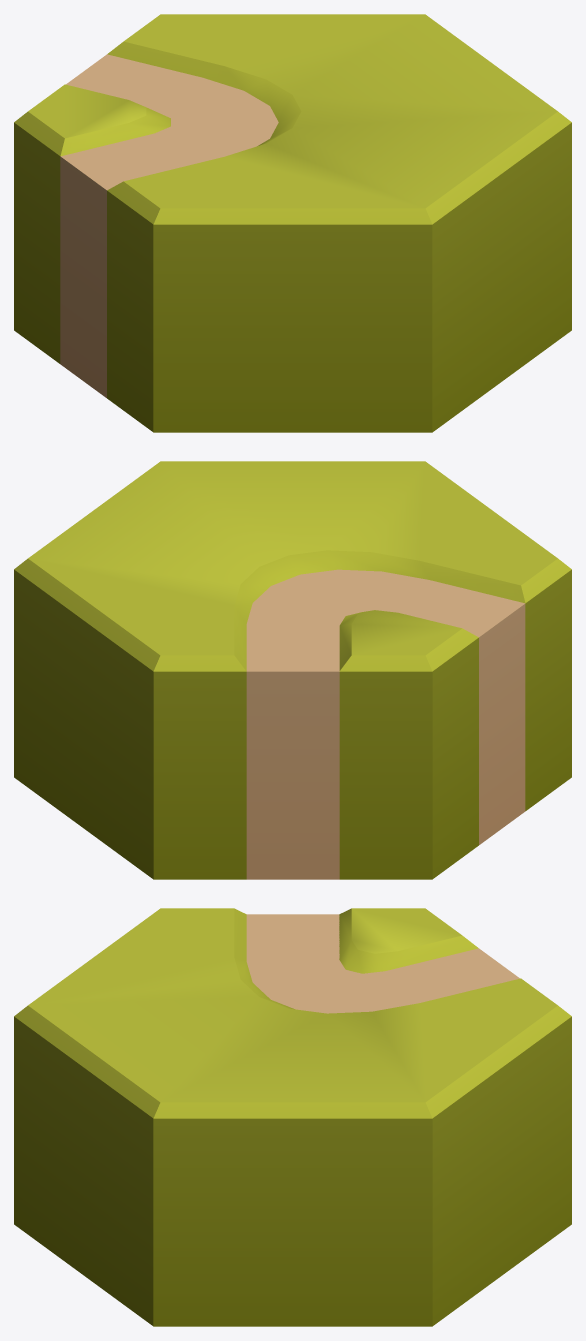
File: hex_road_c.glb
The picture shows the model from 3 angles, top to bottom: view 1: azimuth 30°, elevation 25°; view 2: azimuth 150°, elevation 25°; view 3: azimuth 270°, elevation 25°; orthographic projection.
Visible parts, largest first — view 1: hex_road_C; view 2: hex_road_C; view 3: hex_road_C.
Part boxes in pixels (<box>): hex_road_C: <box>14,14,571,432</box>; hex_road_C: <box>14,461,571,879</box>; hex_road_C: <box>14,908,571,1326</box>.
Size of the model in its own units: 2 by 1 by 2.31.
1 material, 1 textured.
